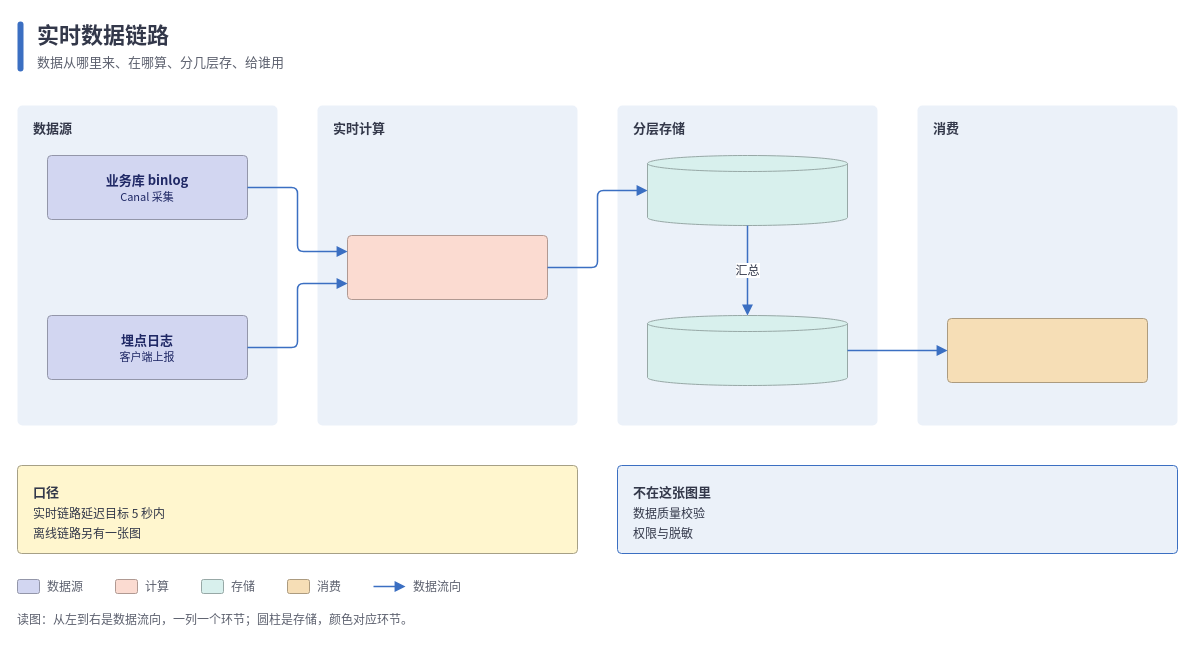
Image size: 1195x646. Some labels were removed from this diagram. Here are the shapes that lost their labels. From the top down, the centre of each, then its label:
point 747,190: 数仓 ODS / DWD
point 447,267: Flink 实时计算 清洗 · 聚合
point 747,350: ADS 指标 面向应用
point 1047,350: BI 报表 运营看板
